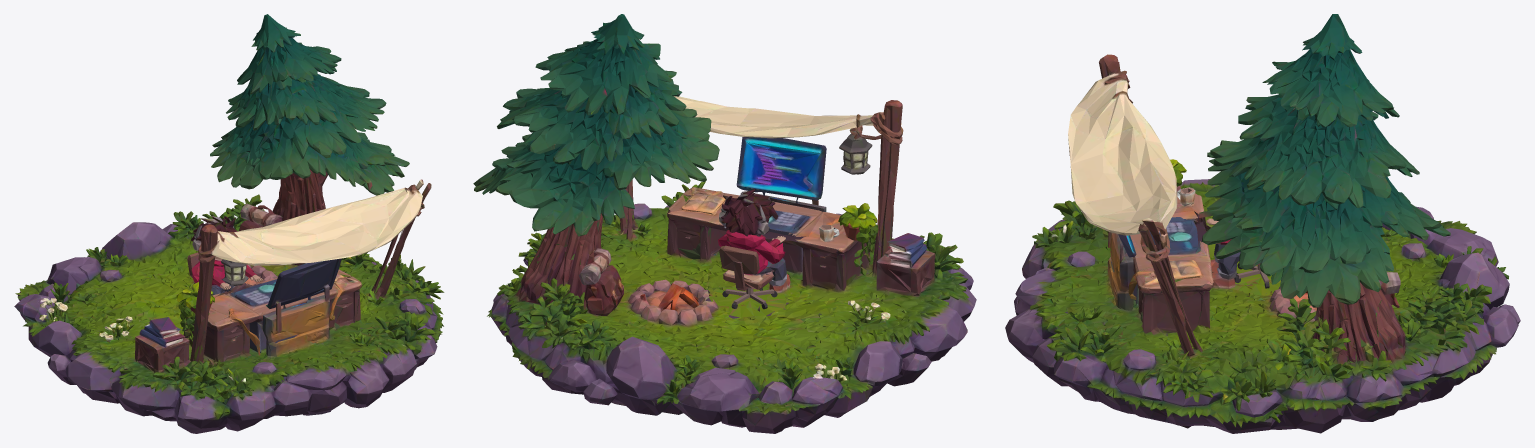
Rendered from island-repaired.glb.
3 renders of one model, left to right at view 1: azimuth 30°, elevation 25°; view 2: azimuth 150°, elevation 25°; view 3: azimuth 270°, elevation 25°, orthographic. The views are drawn at different scales.
Parts seen in each view (by area): view 1: Repair trial ground export, model_part4 export, model_part2 export, Repair trial model_part3 export, Repair trial model_part1 export; view 2: Repair trial ground export, model_part4 export, Repair trial model_part3 export, model_part2 export, Repair trial model_part1 export, Repair trial ground infill export, Repair trial five caster chair base export; view 3: Repair trial ground export, model_part4 export, model_part2 export, Repair trial model_part3 export, Repair trial ground infill export.
Boxes of the visible parts, x1,y1,x2,y2 form: Repair trial ground export: [14, 194, 444, 433]; model_part4 export: [210, 14, 409, 265]; model_part2 export: [193, 179, 431, 360]; Repair trial model_part3 export: [176, 258, 361, 362]; Repair trial model_part1 export: [187, 215, 253, 293]; Repair trial ground export: [487, 181, 976, 433]; model_part4 export: [473, 14, 719, 274]; Repair trial model_part3 export: [667, 137, 878, 289]; model_part2 export: [620, 96, 903, 277]; Repair trial model_part1 export: [718, 189, 785, 290]; Repair trial ground infill export: [709, 285, 786, 317]; Repair trial five caster chair base export: [722, 287, 777, 309]; Repair trial ground export: [1005, 179, 1520, 433]; model_part4 export: [1199, 14, 1450, 362]; model_part2 export: [1068, 54, 1192, 356]; Repair trial model_part3 export: [1107, 159, 1213, 328]; Repair trial ground infill export: [1230, 264, 1280, 295].
Size of the model in its own units: 1.9 by 1.48 by 1.86.
Materials: 5 (1 with a texture image).
